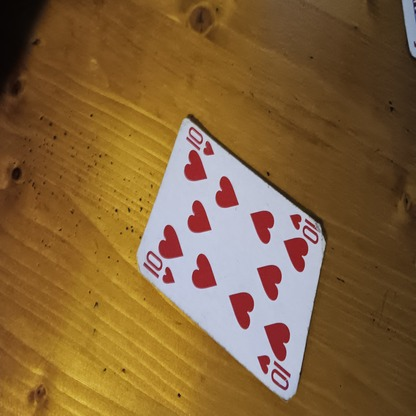10h: (140, 247, 177, 287), (255, 353, 292, 389), (289, 208, 319, 244), (186, 126, 214, 156)
